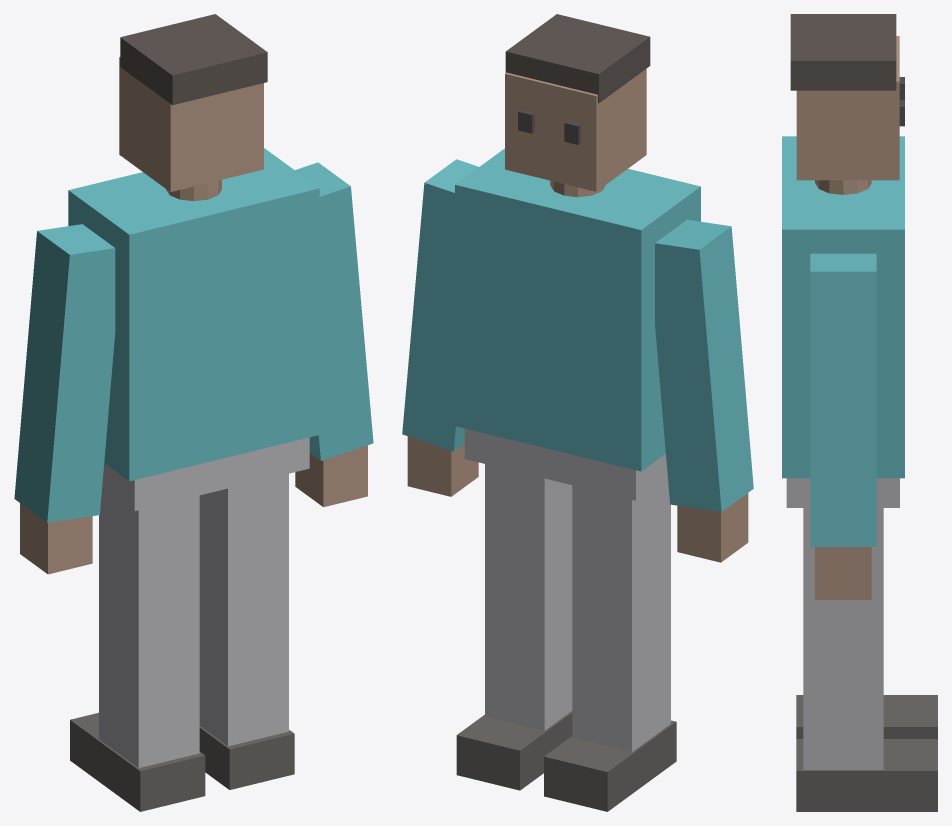
File: civ_09.glb
The picture shows the model from 3 angles, left to right: view 1: azimuth 30°, elevation 25°; view 2: azimuth 150°, elevation 25°; view 3: azimuth 270°, elevation 25°; orthographic projection. The views are drawn at different scales.
Visible parts, largest first — view 1: civ_09_torso, civ_09_leg_L, civ_09_arm_L, civ_09_leg_R, civ_09_head, civ_09_arm_R, civ_09_hair, civ_09_pelvis, civ_09_shoe_L, civ_09_shoe_R, civ_09_hand_L, civ_09_hand_R (+1 smaller); view 2: civ_09_torso, civ_09_leg_L, civ_09_arm_L, civ_09_leg_R, civ_09_head, civ_09_arm_R, civ_09_hair, civ_09_shoe_L, civ_09_pelvis, civ_09_shoe_R, civ_09_hand_L, civ_09_hand_R; view 3: civ_09_torso, civ_09_arm_R, civ_09_leg_R, civ_09_head, civ_09_hair, civ_09_shoe_R, civ_09_hand_R, civ_09_shoe_L, civ_09_pelvis, civ_09_neck.
Boxes of the visible parts, x1,y1,x2,y2 form: civ_09_torso: (68,148,319,481); civ_09_leg_L: (99,487,199,767); civ_09_arm_L: (14,224,115,522); civ_09_leg_R: (199,473,288,746); civ_09_head: (119,57,263,192); civ_09_arm_R: (295,162,373,460); civ_09_hair: (120,14,267,105); civ_09_pelvis: (102,437,309,511); civ_09_shoe_L: (70,712,205,811); civ_09_shoe_R: (199,726,294,789); civ_09_hand_L: (20,503,92,574); civ_09_hand_R: (295,445,367,507); civ_09_torso: (455,148,700,471); civ_09_leg_L: (572,477,670,752); civ_09_arm_L: (655,219,753,512); civ_09_leg_R: (485,464,572,730); civ_09_head: (505,69,646,191); civ_09_arm_R: (402,159,478,451); civ_09_hair: (505,14,650,103); civ_09_shoe_L: (544,720,676,811); civ_09_pelvis: (464,428,667,500); civ_09_shoe_R: (456,711,572,790); civ_09_hand_L: (677,493,748,562); civ_09_hand_R: (407,436,478,496); civ_09_torso: (782,136,904,478); civ_09_arm_R: (810,253,876,546); civ_09_leg_R: (803,508,883,769); civ_09_head: (796,36,899,180); civ_09_hair: (790,14,896,90); civ_09_shoe_R: (796,739,937,811); civ_09_hand_R: (815,547,871,599); civ_09_shoe_L: (796,695,937,738); civ_09_pelvis: (786,478,899,507); civ_09_neck: (815,180,871,194).
Bounding box in the file's own units: 0.7551 × 1.62 × 0.3102.
